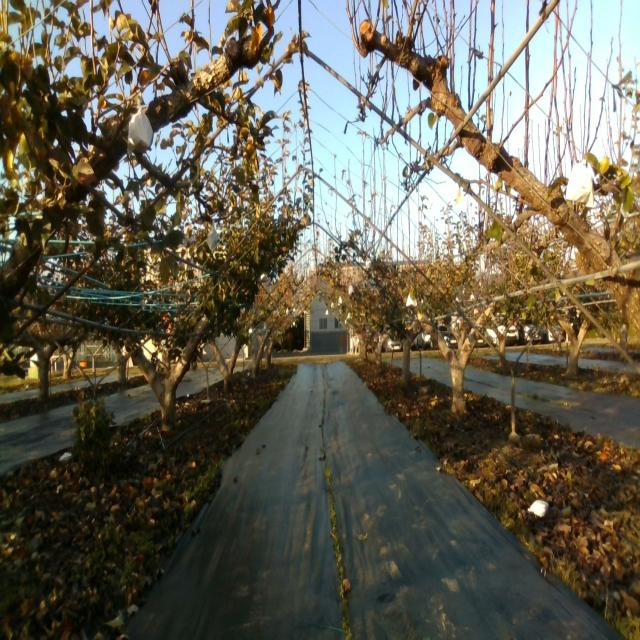pearbags: (566, 158, 595, 210), (127, 108, 156, 156), (207, 220, 218, 250)
